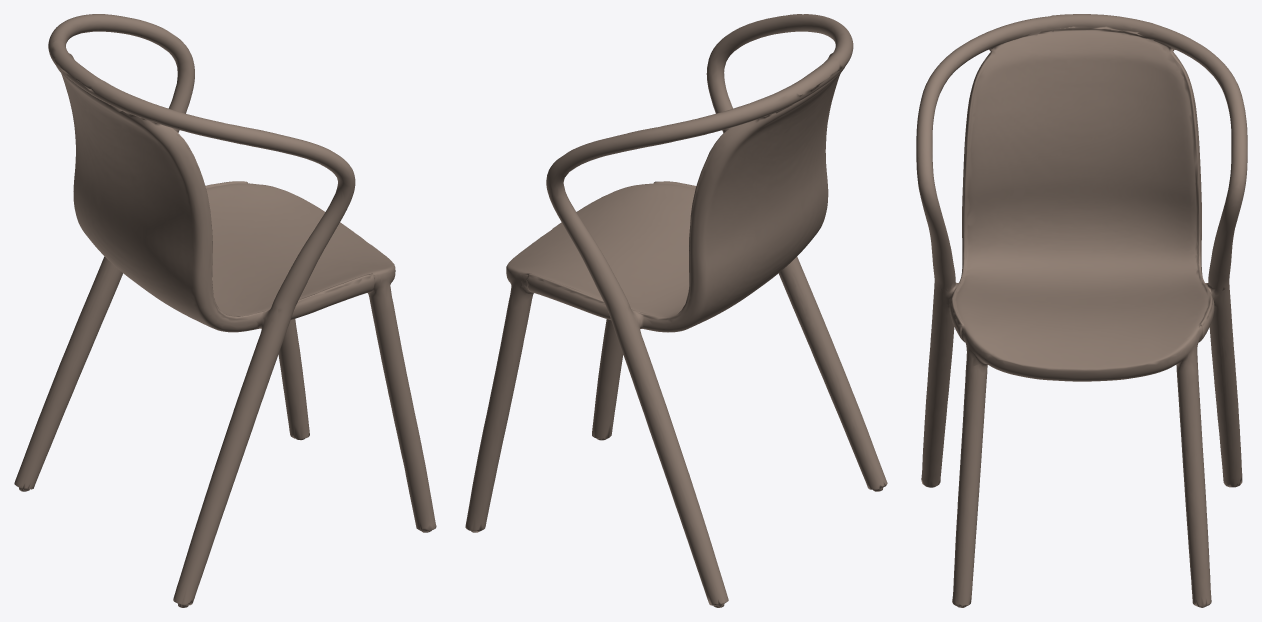
The model's file is ND-0609__Gigi2.glb.
3 views of the same model, side by side, from view 1: azimuth 30°, elevation 25°; view 2: azimuth 150°, elevation 25°; view 3: azimuth 270°, elevation 25° (orthographic). The views are drawn at different scales.
Visible parts, largest first — view 1: tripo_node_3a24aa58-59f4-4d57-97b5-c6f02c313c65; view 2: tripo_node_3a24aa58-59f4-4d57-97b5-c6f02c313c65; view 3: tripo_node_3a24aa58-59f4-4d57-97b5-c6f02c313c65.
Boxes of the visible parts, x1=… form: tripo_node_3a24aa58-59f4-4d57-97b5-c6f02c313c65: x1=14, y1=14, x2=436, y2=607; tripo_node_3a24aa58-59f4-4d57-97b5-c6f02c313c65: x1=465, y1=14, x2=887, y2=607; tripo_node_3a24aa58-59f4-4d57-97b5-c6f02c313c65: x1=916, y1=14, x2=1247, y2=607.
Bounding box in the file's own units: 0.6306 × 0.9788 × 0.6379.
